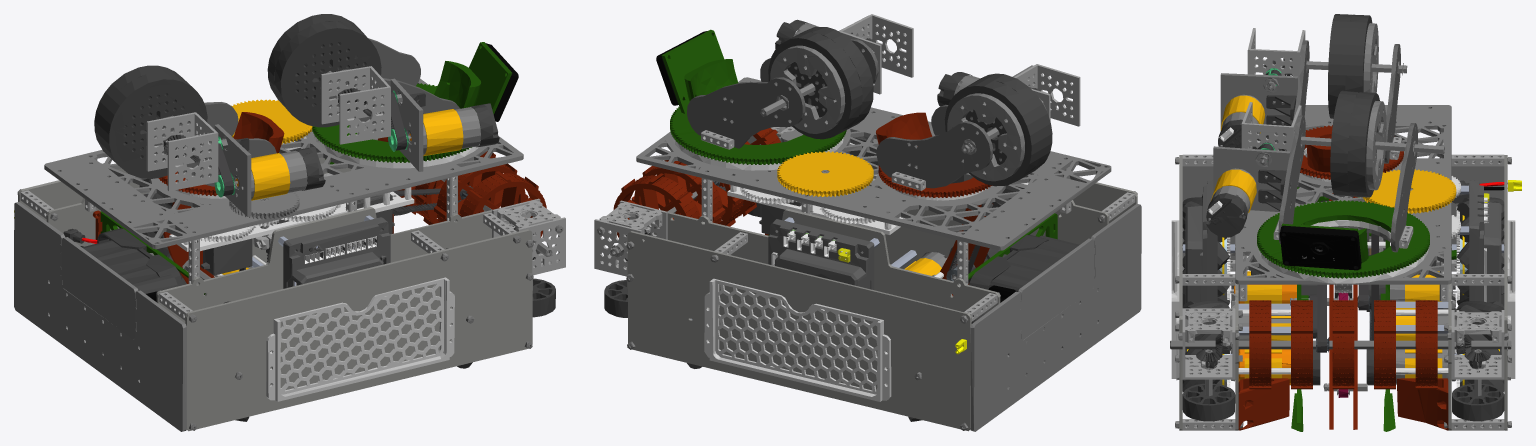
The model's file is sirius-shadow.glb.
The picture shows the model from 3 angles, left to right: view 1: azimuth 30°, elevation 25°; view 2: azimuth 150°, elevation 25°; view 3: azimuth 270°, elevation 25°; orthographic projection. The views are drawn at different scales.
Parts seen in each view (by area): view 1: body, turret2, turret, flywheel2, flywheel, intake_front, intake_right; view 2: body, turret2, turret, flywheel2, flywheel, intake_front, intake_left; view 3: body, turret2, intake_front, turret, flywheel2, flywheel, intake_right, intake_left, wheel_bl, wheel_br, wheel_fl, wheel_fr.
Boxes of the visible parts, box(x1,y1,x2,y2) form: body: box(14, 78, 565, 431); turret2: box(312, 38, 518, 171); turret: box(146, 102, 325, 216); flywheel2: box(267, 14, 381, 127); flywheel: box(94, 65, 207, 178); intake_front: box(373, 129, 552, 256); intake_right: box(532, 249, 555, 317); body: box(594, 77, 1141, 431); turret2: box(656, 14, 913, 164); turret: box(876, 64, 1080, 197); flywheel2: box(768, 26, 873, 139); flywheel: box(944, 73, 1052, 186); intake_front: box(610, 127, 785, 256); intake_left: box(604, 251, 627, 317); body: box(1171, 105, 1521, 431); turret2: box(1206, 102, 1444, 278); intake_front: box(1170, 300, 1511, 389); turret: box(1218, 28, 1407, 179); flywheel2: box(1280, 90, 1416, 197); flywheel: box(1283, 14, 1403, 118); intake_right: box(1182, 349, 1235, 421); intake_left: box(1452, 349, 1504, 421); wheel_bl: box(1451, 197, 1504, 306); wheel_br: box(1182, 197, 1230, 306); wheel_fl: box(1454, 301, 1504, 392); wheel_fr: box(1175, 301, 1242, 392).
Size of the model in its own units: 0.4126 by 0.2937 by 0.3216.
